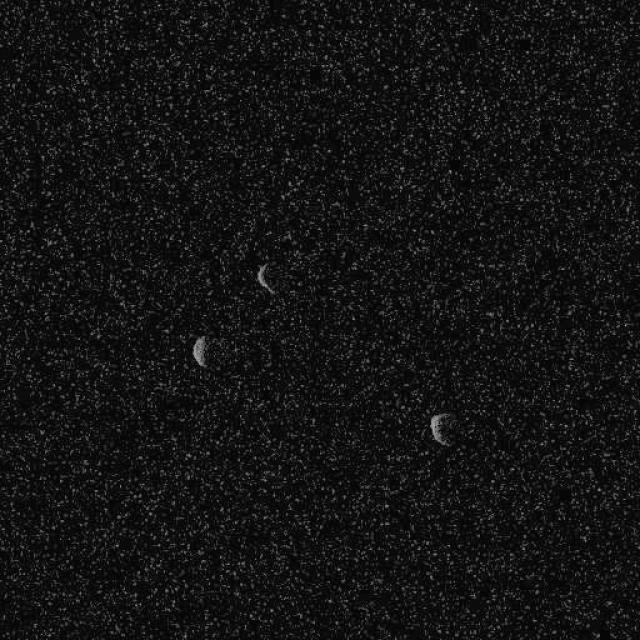D2: (429, 412, 459, 446), (255, 260, 275, 295), (191, 333, 209, 368)
